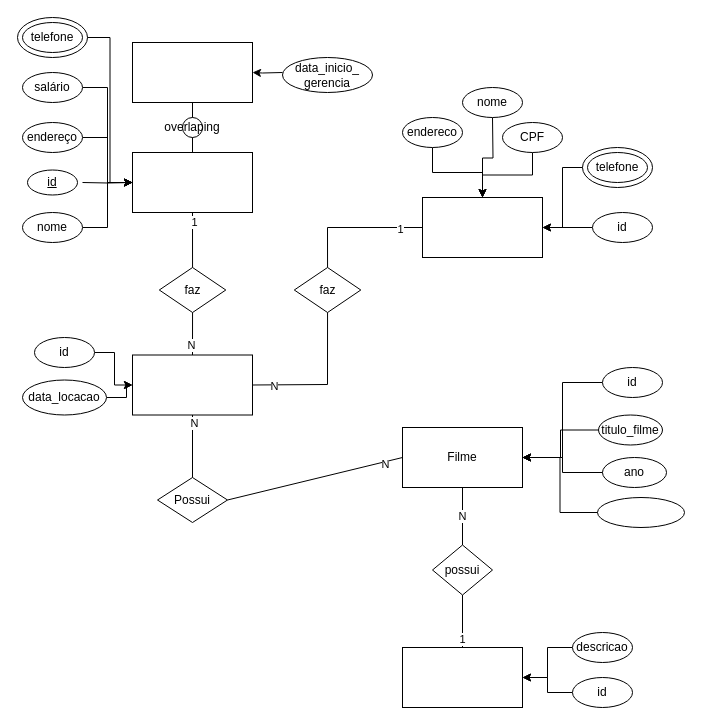
The diagram is 702 pixels wide and 725 high, and some of its shapes have lost their labels. Here are the shapes that lost their labels. From the top down, the centre of each, then its label:
(x=192, y=72): Gerente
(x=192, y=182): Funcionário
(x=482, y=227): Cliente
(x=192, y=384): Locação
(x=640, y=512): tempo_duracao
(x=462, y=677): Categoria
